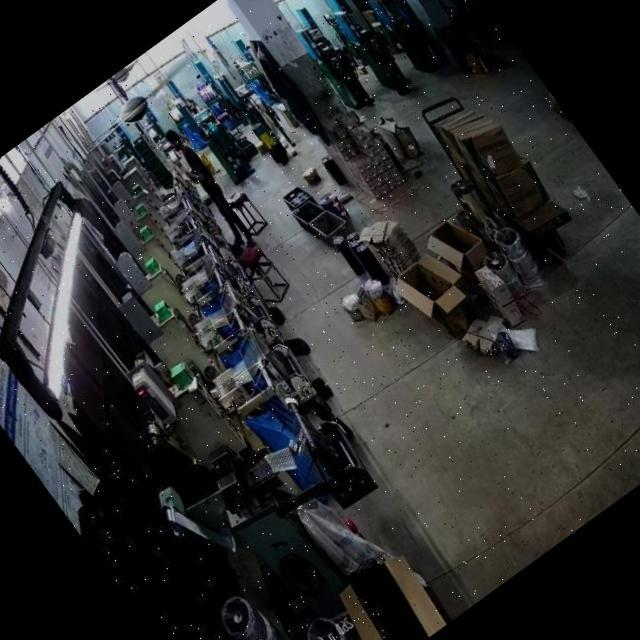person: (154, 119, 256, 248)
